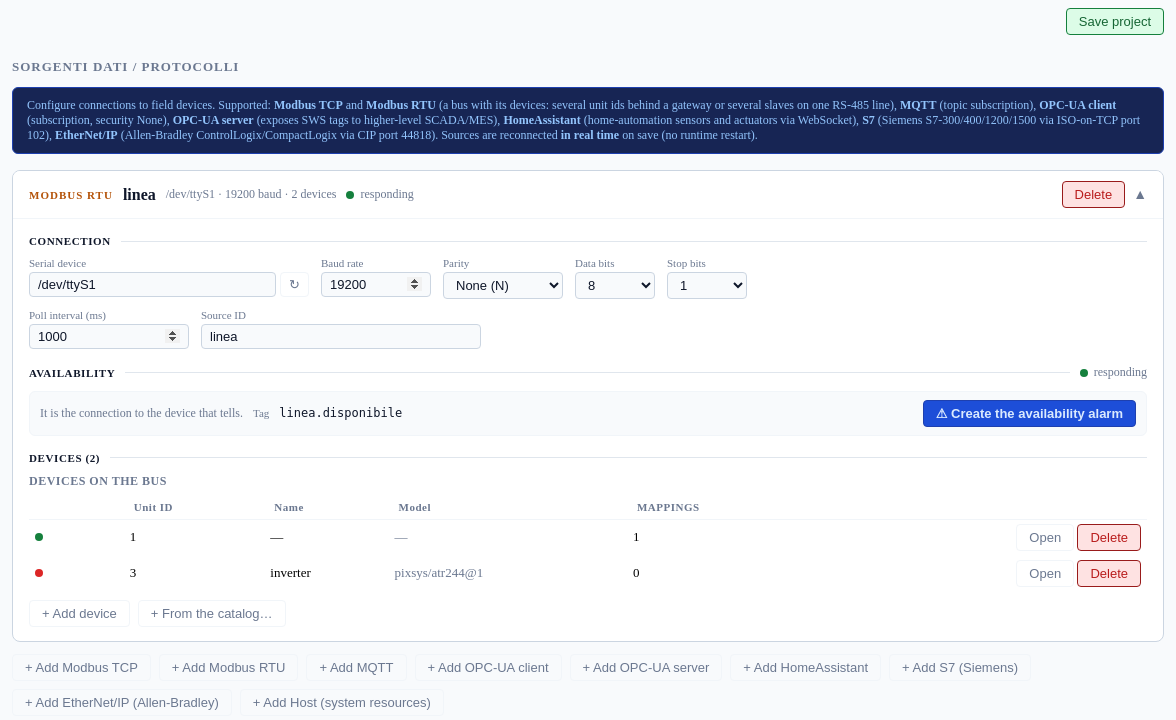
Protocolli: bus → dispositivi › dal bus si aggiunge un dispositivo col primo unit id libero e lo si apre
Click the button with test id "modbus-dev-add-linea". click: x=79, y=613
box: left=29, top=600, right=130, bottom=626
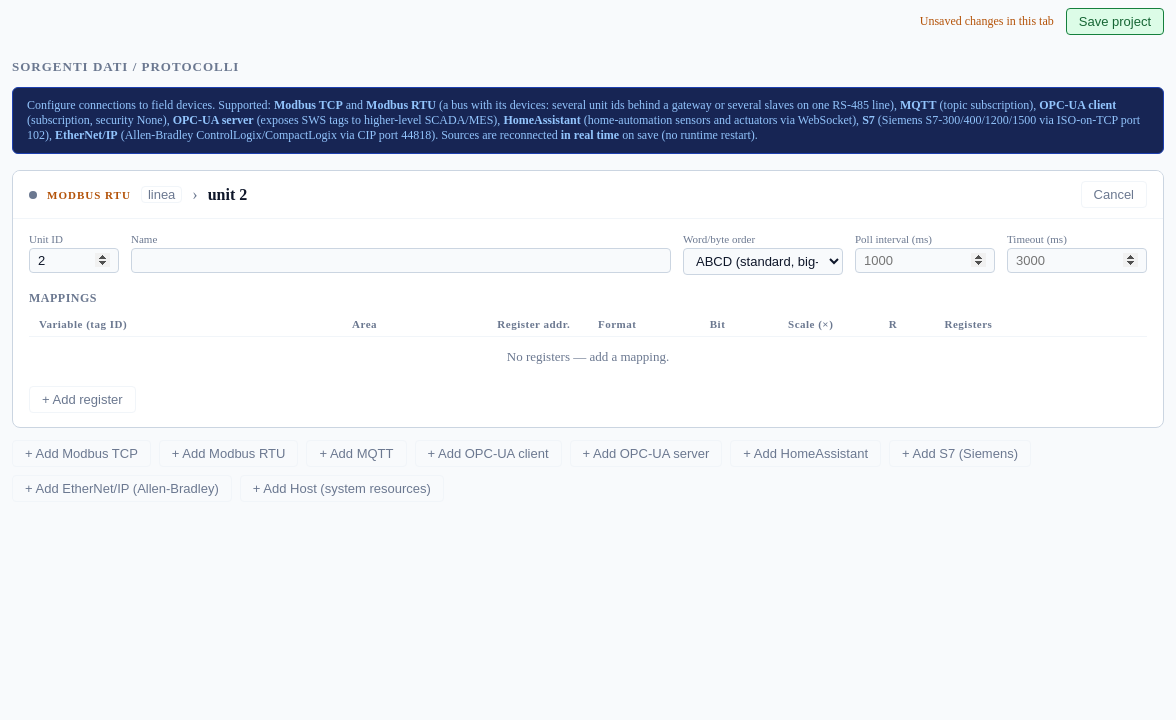
Expected: the element with test id "modbus-dev-card-linea-2" is shown, left=12, top=170, right=1164, bottom=428
